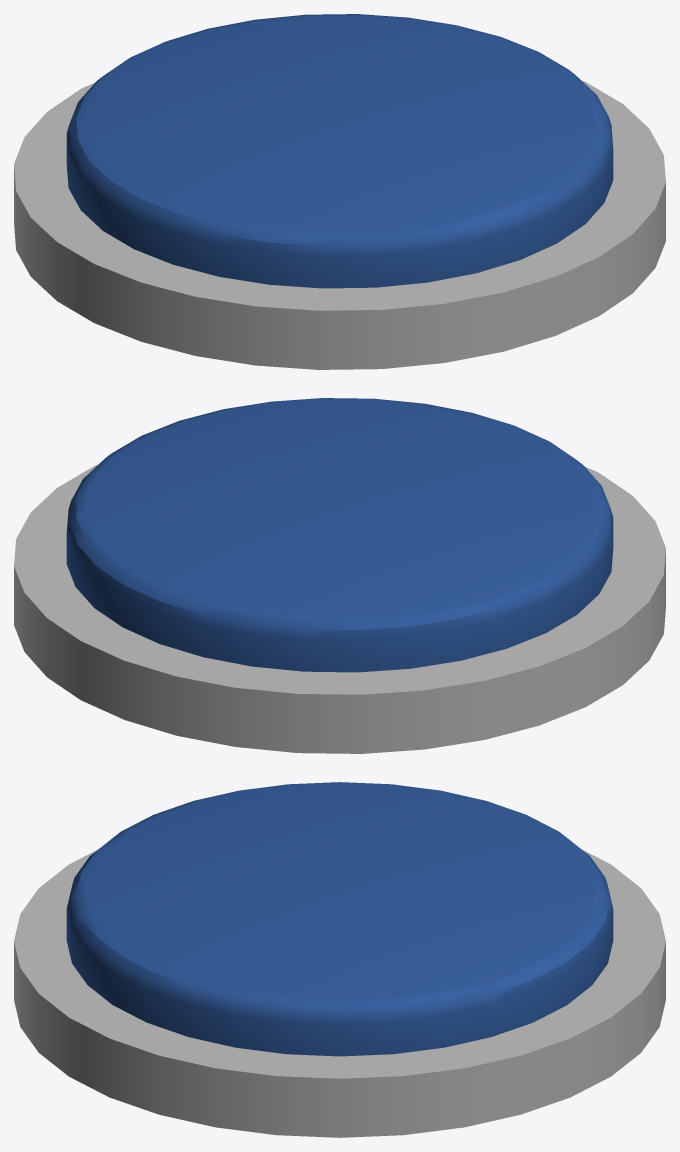
File: bump.fbx
3 views of the same model, one above another, from view 1: azimuth 30°, elevation 25°; view 2: azimuth 150°, elevation 25°; view 3: azimuth 270°, elevation 25° (orthographic).
Parts seen in each view (by area): view 1: Cylinder; view 2: Cylinder; view 3: Cylinder.
Part boxes in pixels (x1=…): Cylinder: x1=14, y1=14, x2=665, y2=369; Cylinder: x1=14, y1=398, x2=665, y2=753; Cylinder: x1=14, y1=782, x2=665, y2=1137.
Size of the model in its own units: 200 by 36.86 by 200.
